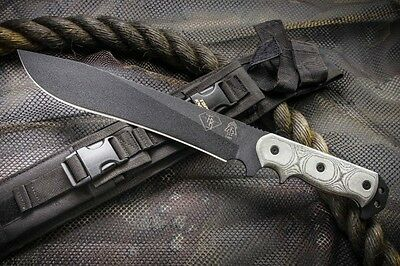knief: (14, 42, 378, 205)
